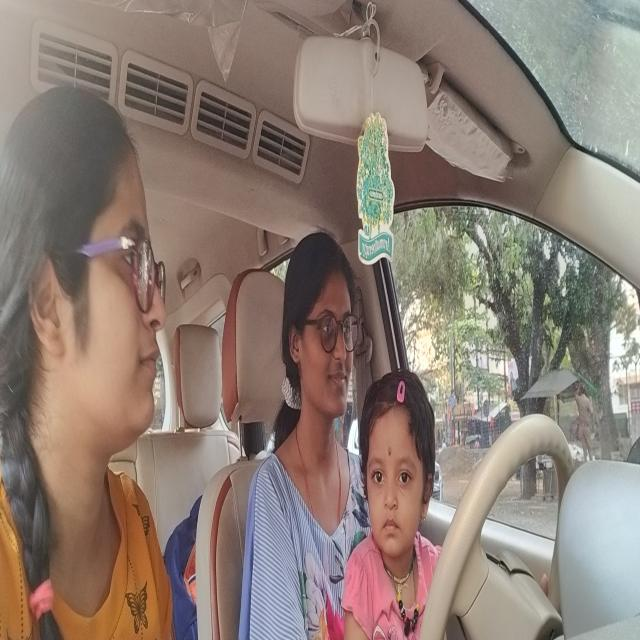child: (358, 356, 436, 559)
person: (1, 74, 168, 484), (277, 220, 359, 439)
